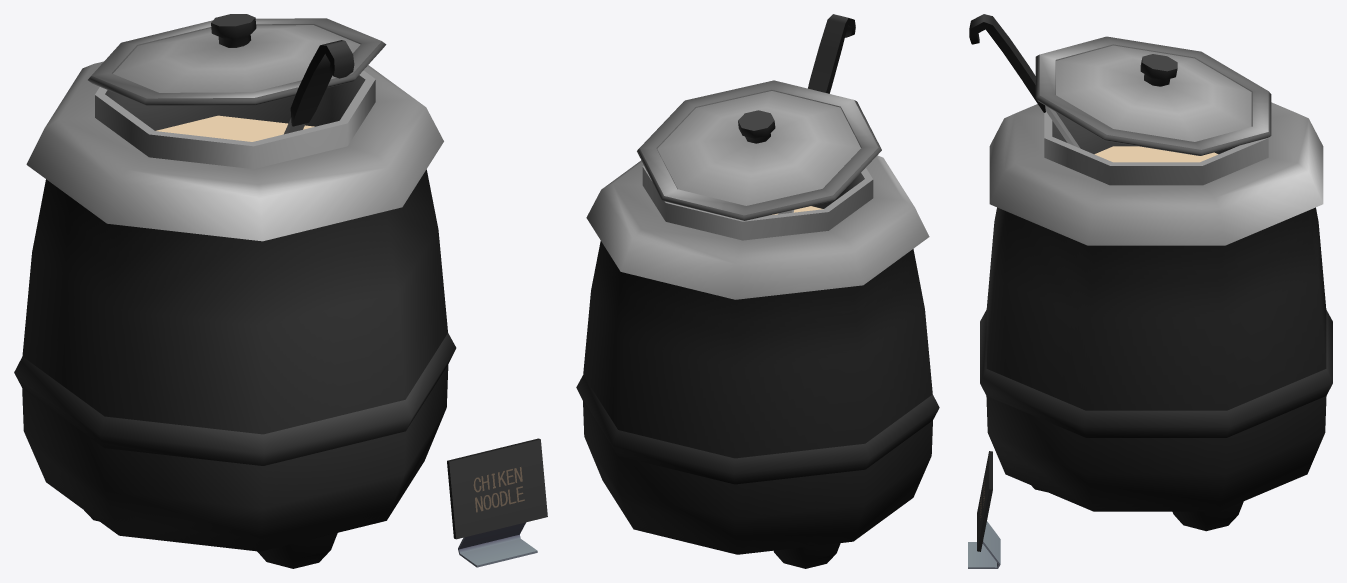
File: CR_caf_Pot_001.FBX
The picture shows the model from 3 angles, left to right: view 1: azimuth 30°, elevation 25°; view 2: azimuth 150°, elevation 25°; view 3: azimuth 270°, elevation 25°; orthographic projection. The views are drawn at different scales.
Visible parts, largest first — view 1: CR_caf_Pot_001; view 2: CR_caf_Pot_001; view 3: CR_caf_Pot_001.
Boxes of the visible parts, x1,y1,x2,y2 form: CR_caf_Pot_001: (14, 14, 547, 568); CR_caf_Pot_001: (576, 14, 939, 568); CR_caf_Pot_001: (968, 14, 1332, 568).
Size of the model in its own units: 27.22 by 37.01 by 26.01.
